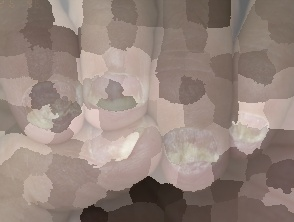Nail_psoriasis: (72, 39, 169, 138), (149, 103, 239, 191), (5, 58, 95, 145), (77, 113, 159, 181), (224, 102, 279, 155)
